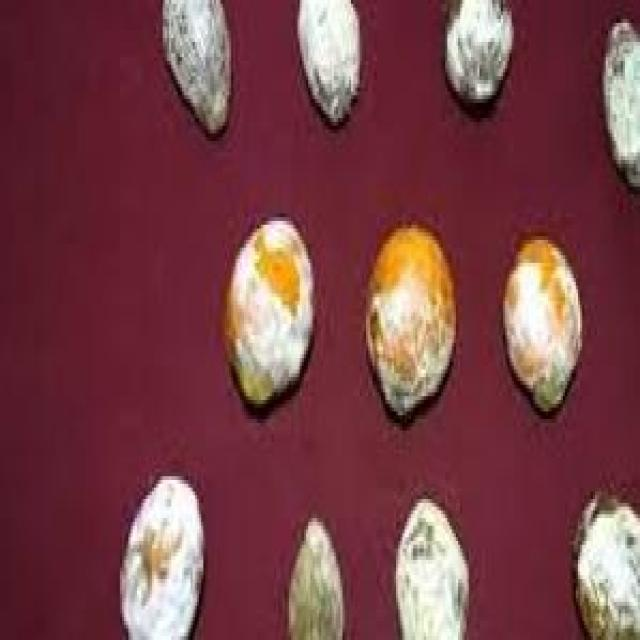damaged: (227, 217, 310, 404), (368, 229, 452, 411), (503, 236, 580, 408), (122, 476, 201, 636), (396, 499, 467, 636), (576, 495, 638, 636), (163, 0, 229, 130), (298, 0, 357, 118), (447, 0, 512, 99), (289, 522, 340, 636), (608, 23, 638, 187)
